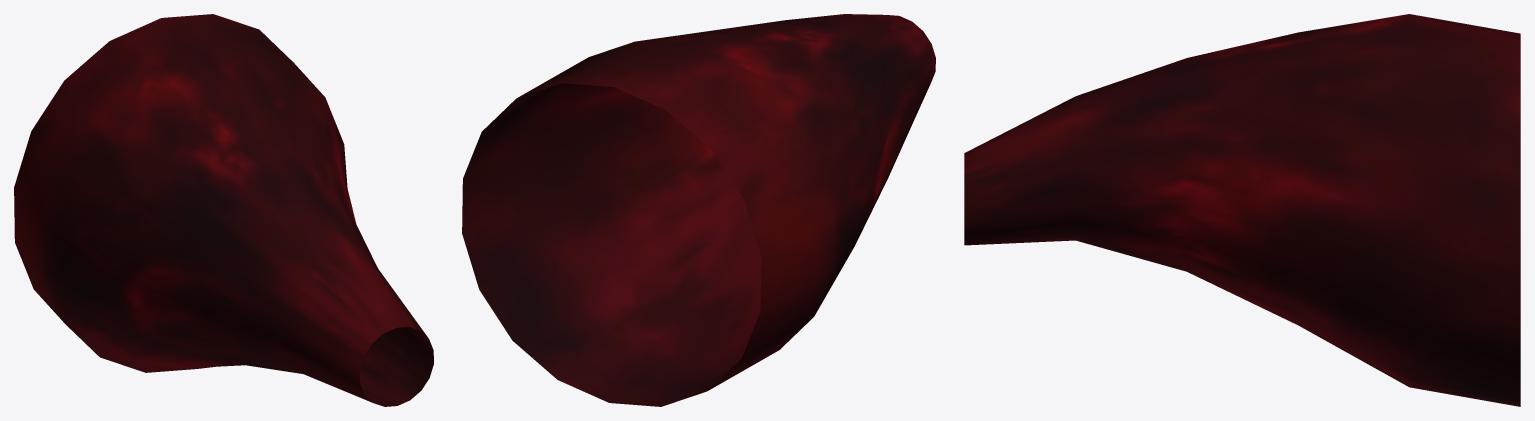
File: tdr_z_storm_b.obj
3 views of the same model, side by side, from view 1: azimuth 30°, elevation 25°; view 2: azimuth 150°, elevation 25°; view 3: azimuth 270°, elevation 25° (orthographic). The views are drawn at different scales.
Parts seen in each view (by area): view 1: tdr_z_storm_b; view 2: tdr_z_storm_b; view 3: tdr_z_storm_b.
Boxes of the visible parts, <box> form: tdr_z_storm_b: <box>14,14,433,406</box>; tdr_z_storm_b: <box>462,14,935,406</box>; tdr_z_storm_b: <box>964,14,1520,406</box>.
Bounding box in the file's own units: 19642 × 19105 × 27678.
1 material, 1 textured.
